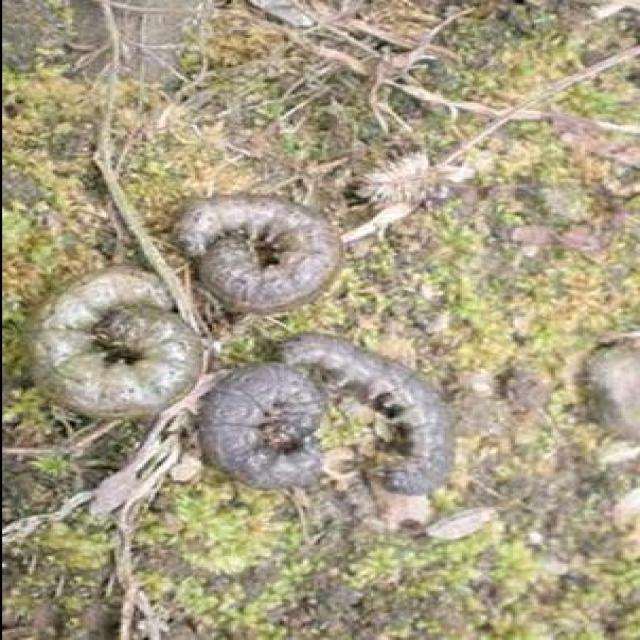black cutworm: (251, 331, 476, 499), (32, 265, 208, 440), (166, 200, 340, 328), (196, 362, 336, 495)
